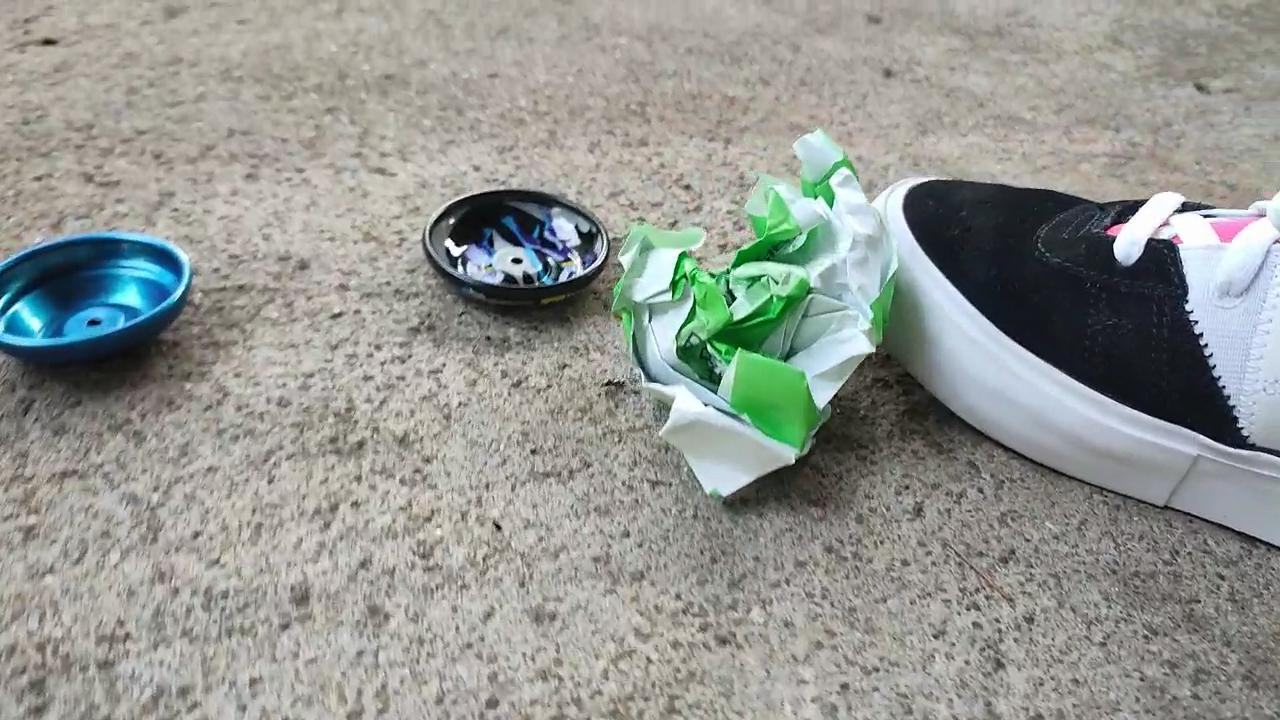Paper: (611, 120, 905, 504)
